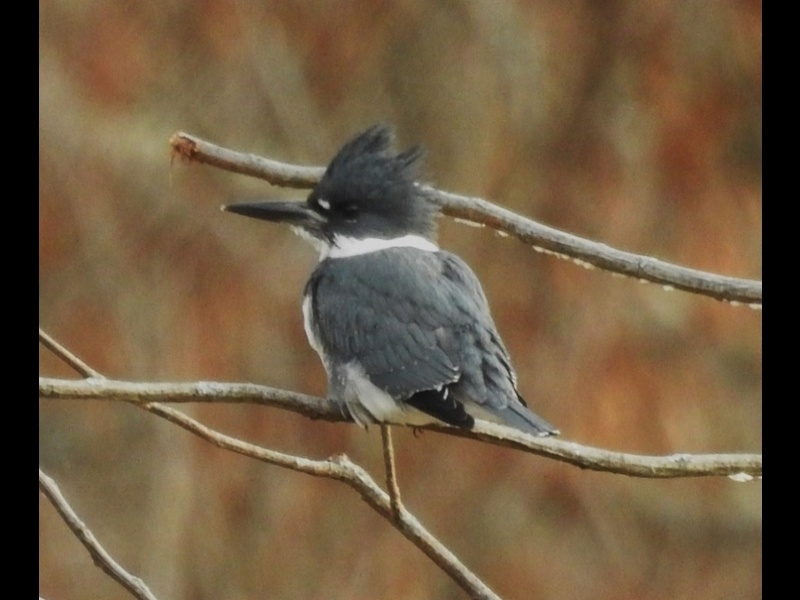kingfisher: (219, 122, 564, 443)
